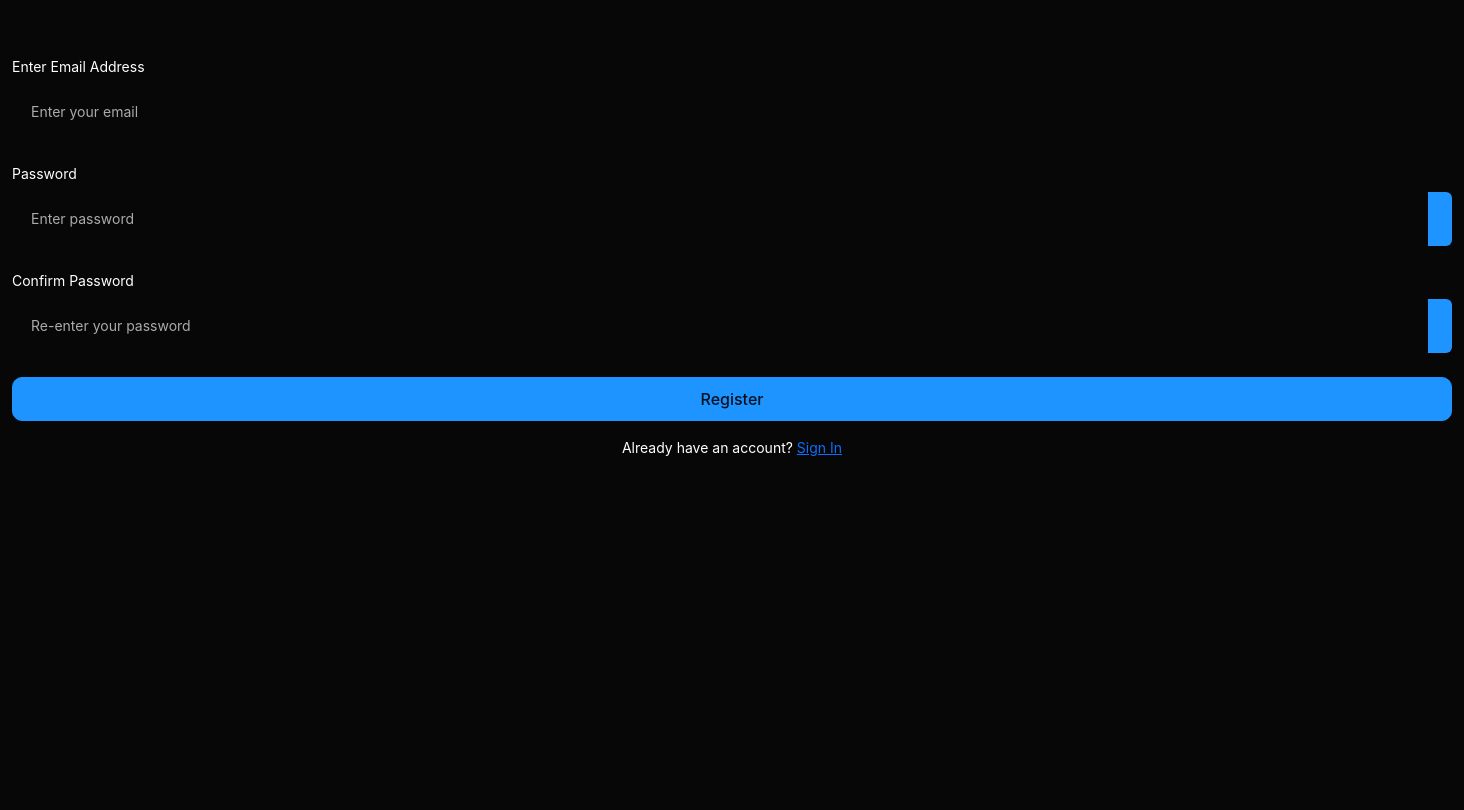
delivery off: the activation link is on the page, not only in a log
Type "someone@example.com" into the field with placeholder "Enter your email" at [732, 112], box [12,85,1452,139]
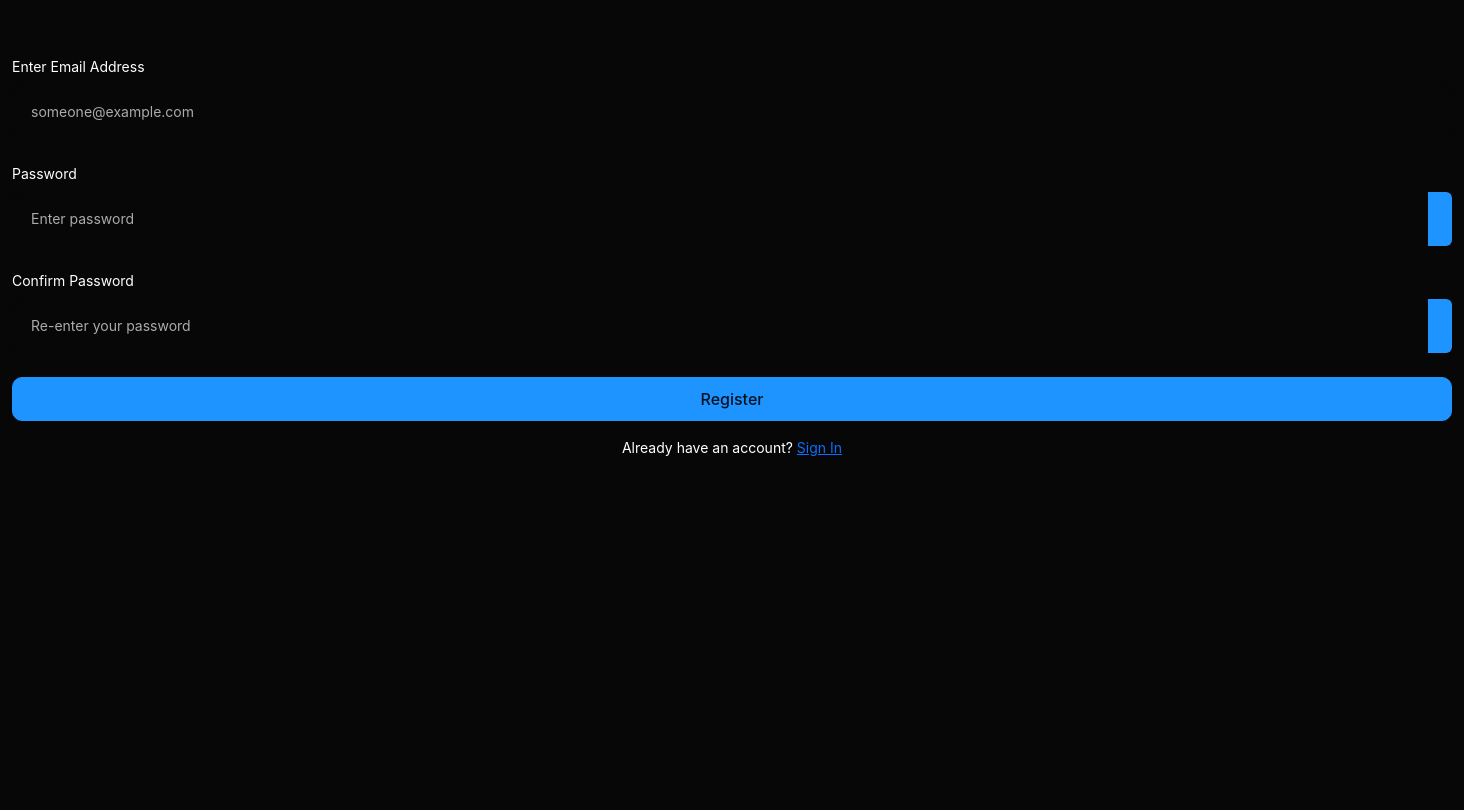
Type "Passw0rd!23" into the password field with placeholder "Enter password" at [720, 219], box [12,192,1428,246]
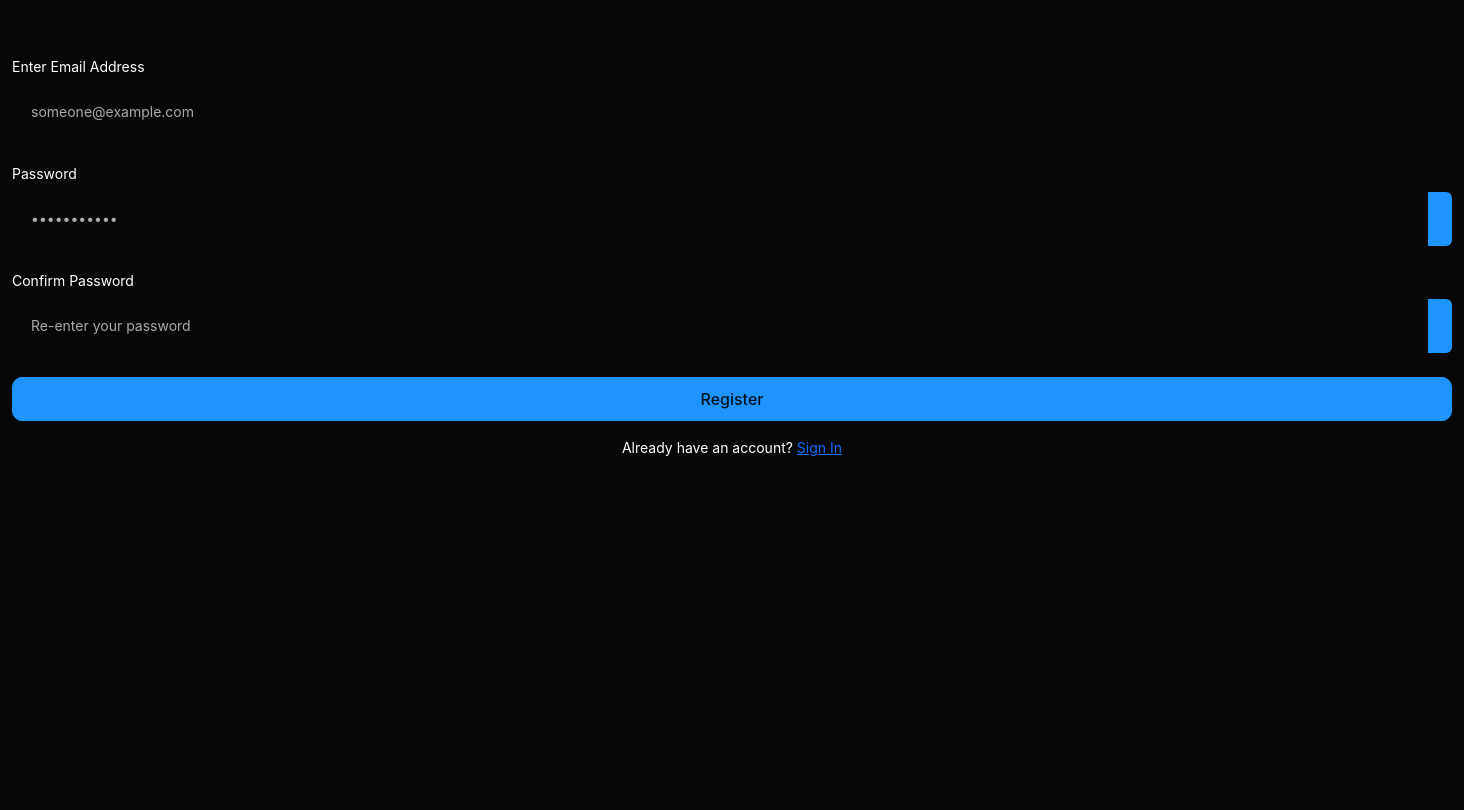
Type "Passw0rd!23" into the password field with placeholder "Re-enter your password" at [720, 326], box [12,299,1428,353]
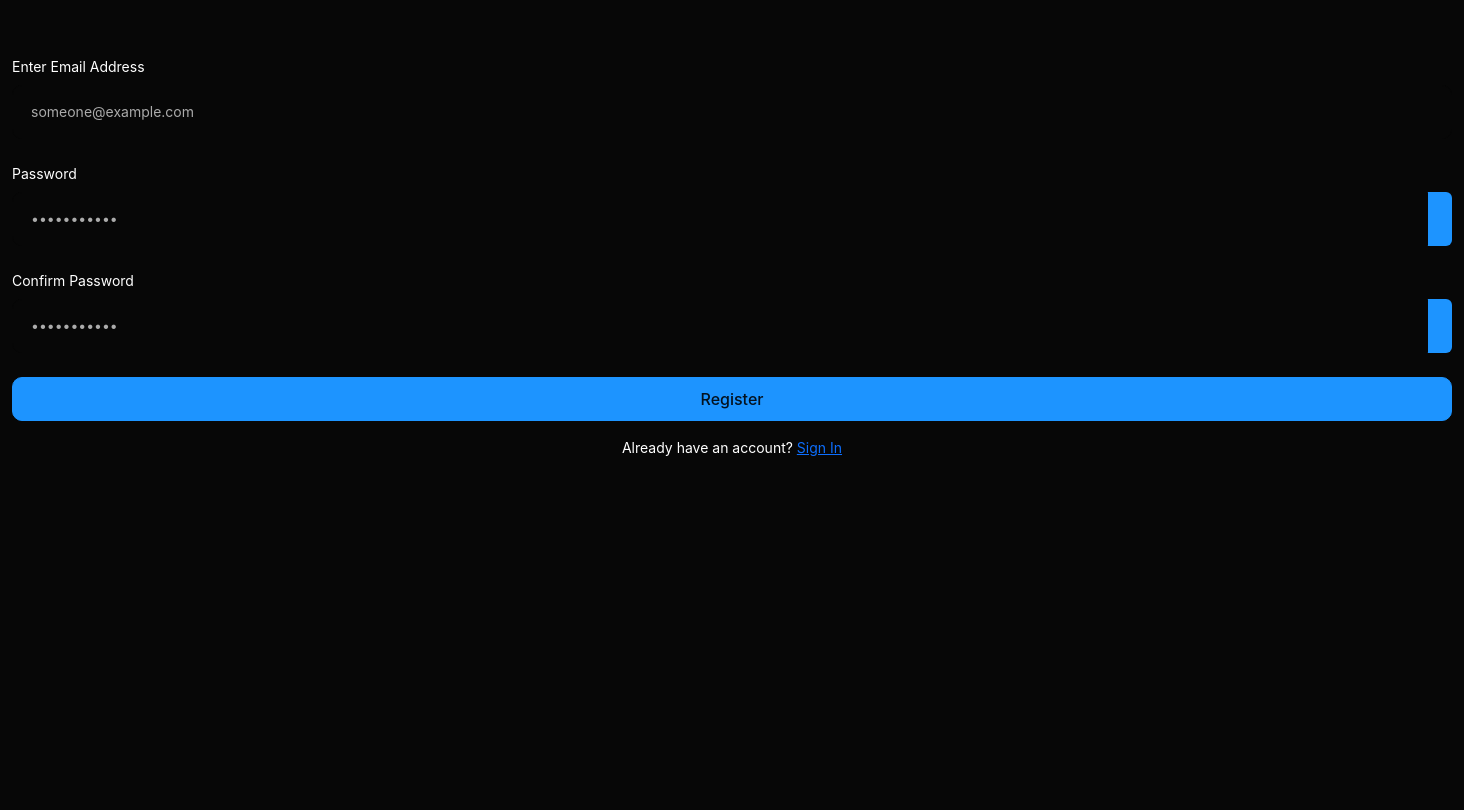
Click the button "Register" at [732, 399], box [12,377,1452,421]
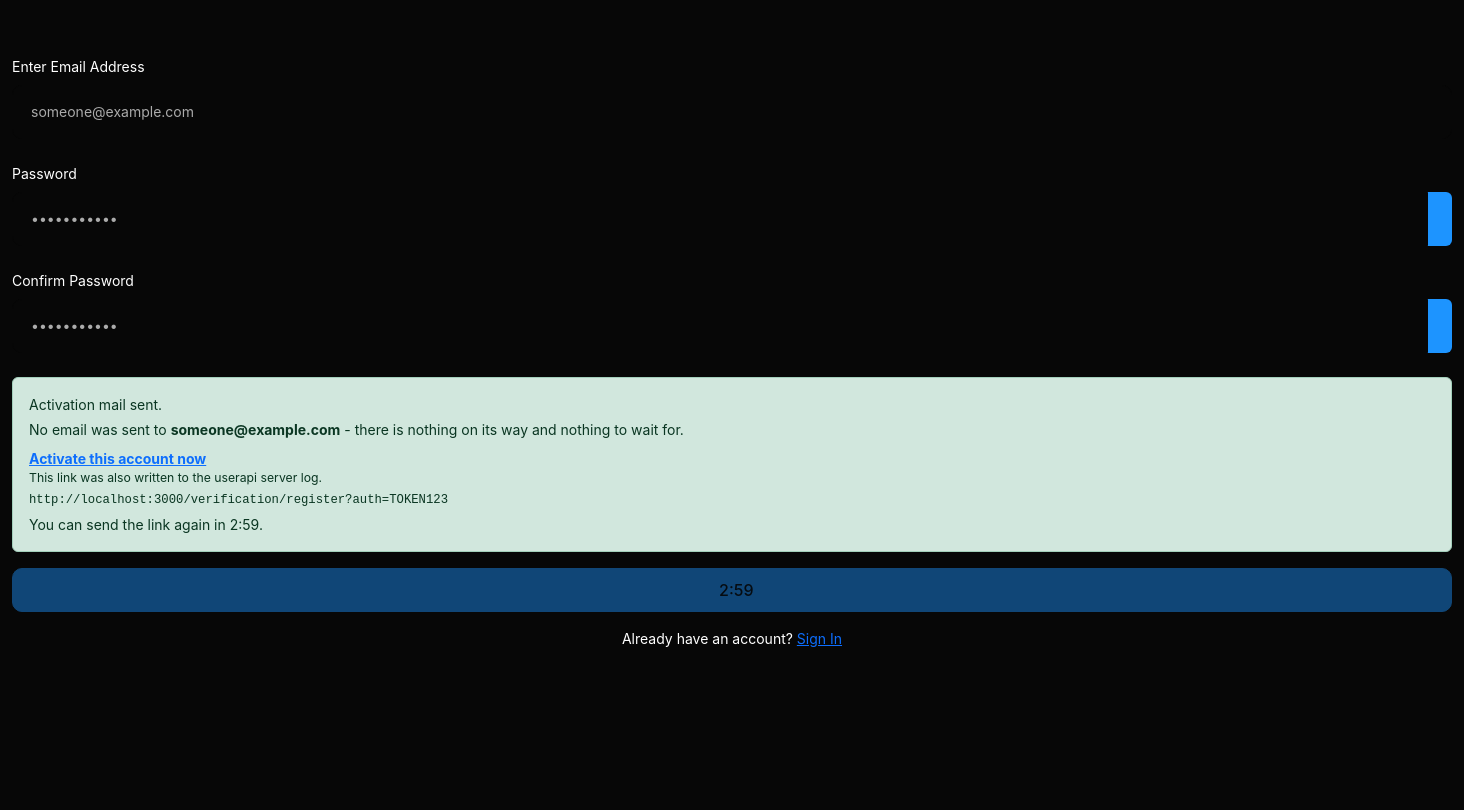
Expected: the text with test id "register-activation-link-url" shows "auth=TOKEN123", [29,493,448,507]
